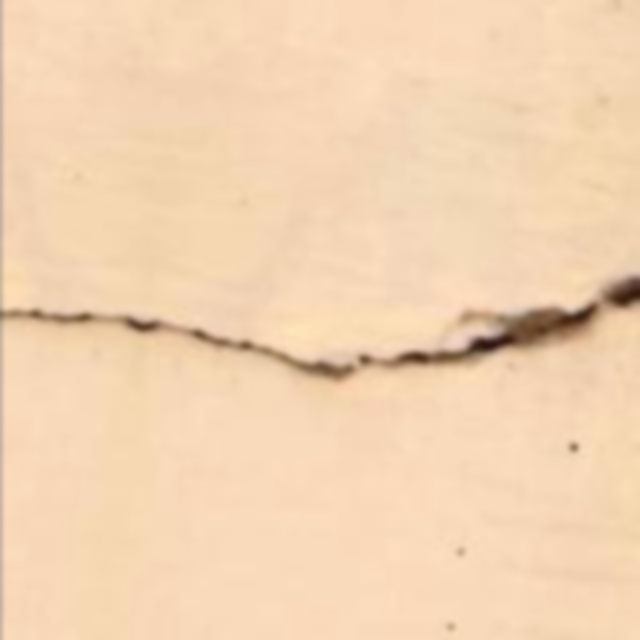SurfaceCrack: (10, 216, 640, 440)
